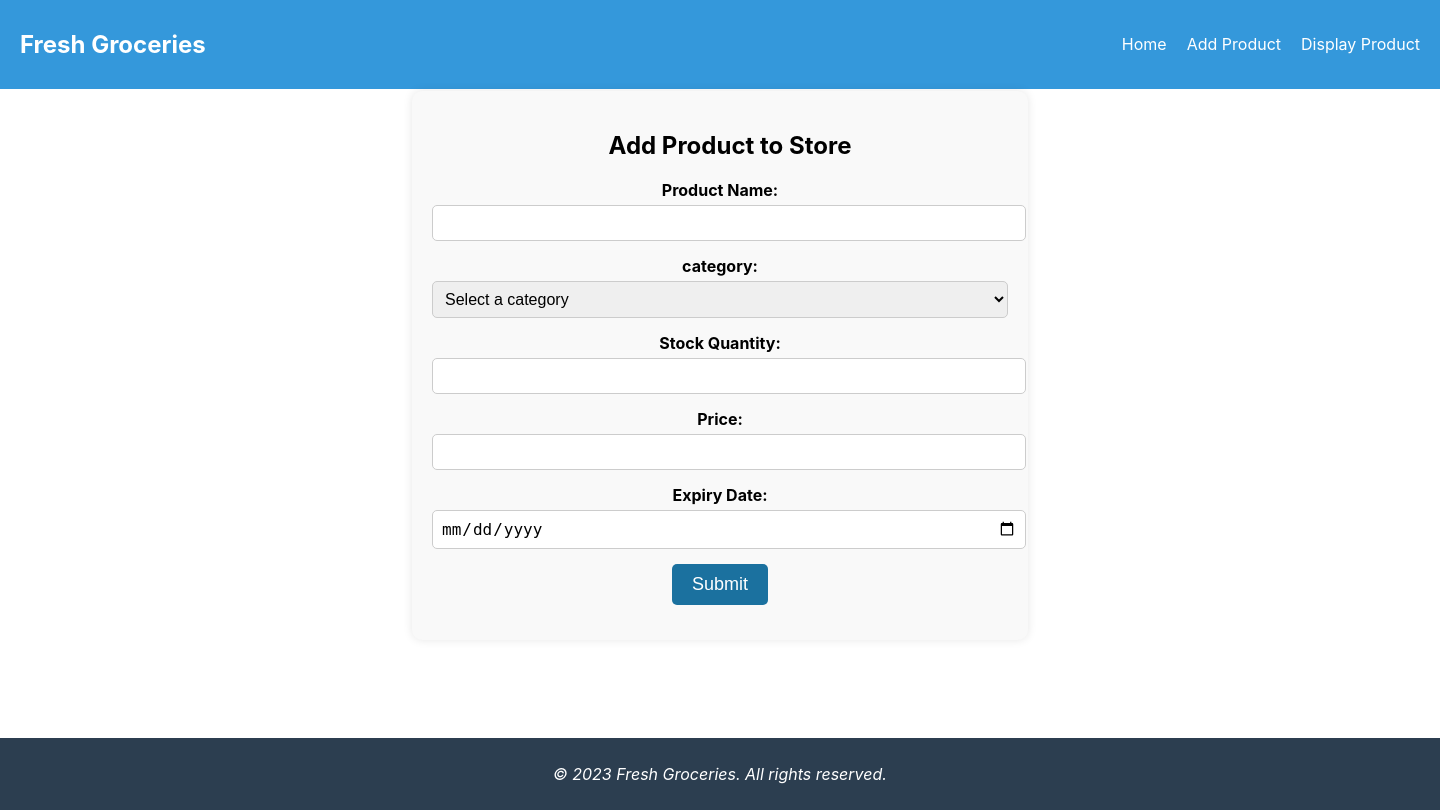
Test: renders_Display_Product_component_title_correctly
Click the link "Display Product".
click(1360, 44)  # box [1301, 34, 1420, 54]
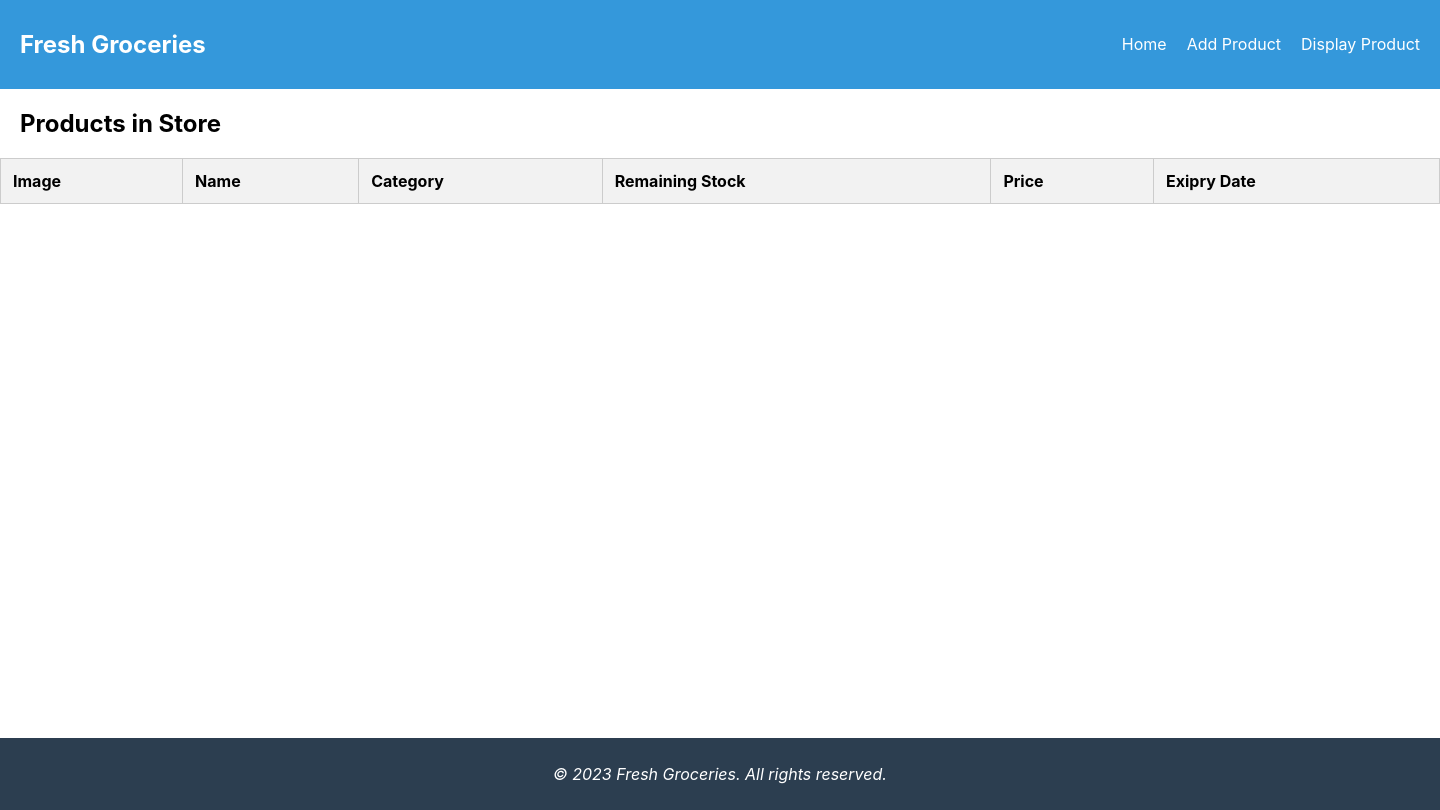
Check: the heading "Products in Store" is shown, box [20, 109, 221, 138]
